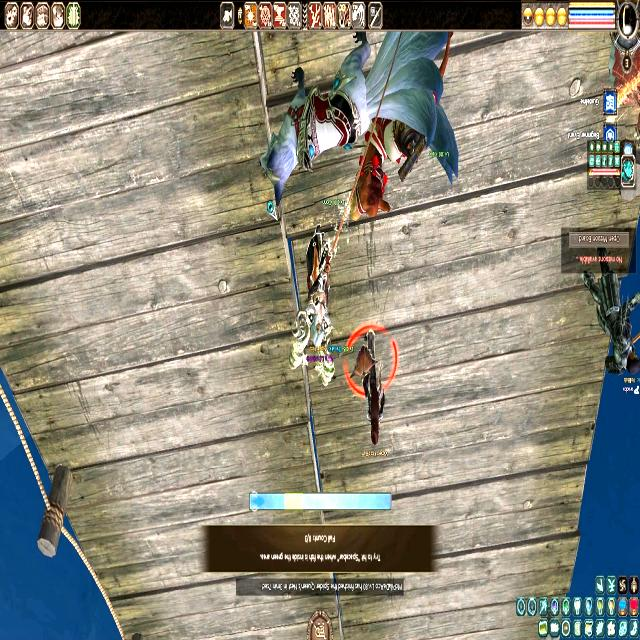fishes: (252, 492, 266, 510)
